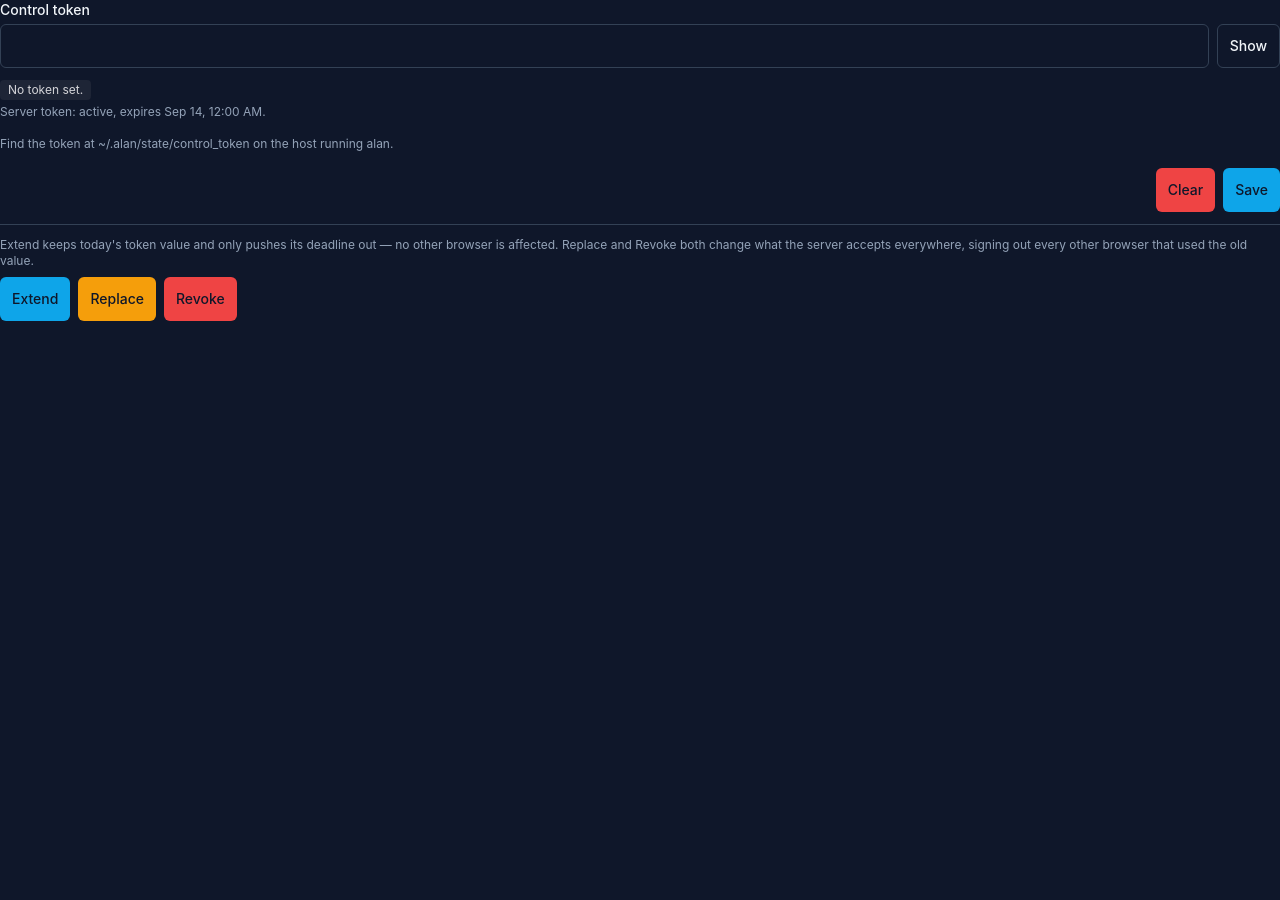
Test case: ControlTokenSection › Replace opens a reset-variant confirm dialog stating the out-of-band fetch and the multi-device sign-out, and cancel makes no request
Click the button with test id "control-token-replace" at (117, 299), box left=78, top=277, right=156, bottom=321
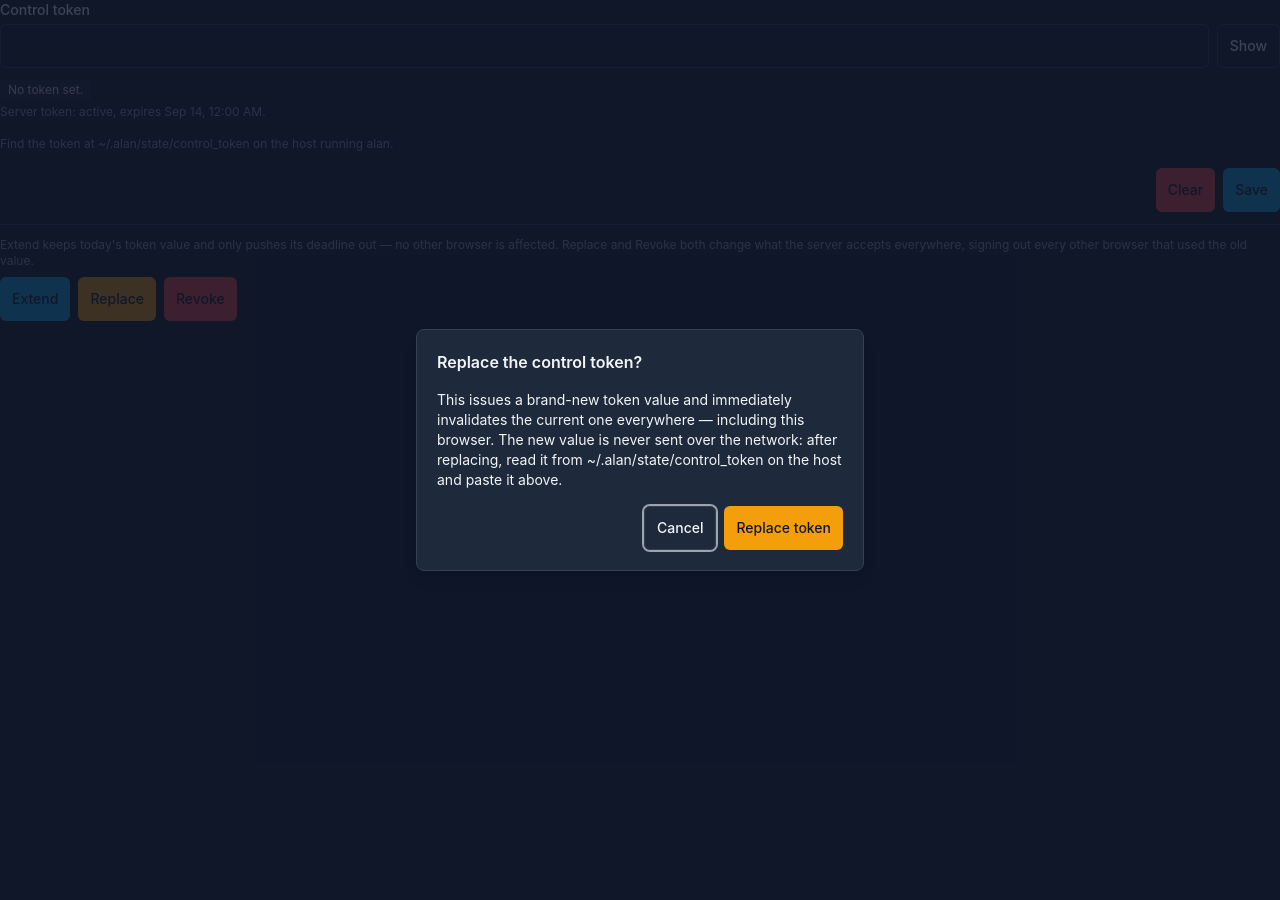
expect the dialog with test id "control-token-replace-confirm" shows "never sent over the network": met, box left=437, top=391, right=842, bottom=488
expect the dialog with test id "control-token-replace-confirm" shows "including this browser": met, box left=437, top=391, right=842, bottom=488
Click the button "Cancel" at (680, 528), box left=644, top=506, right=716, bottom=550
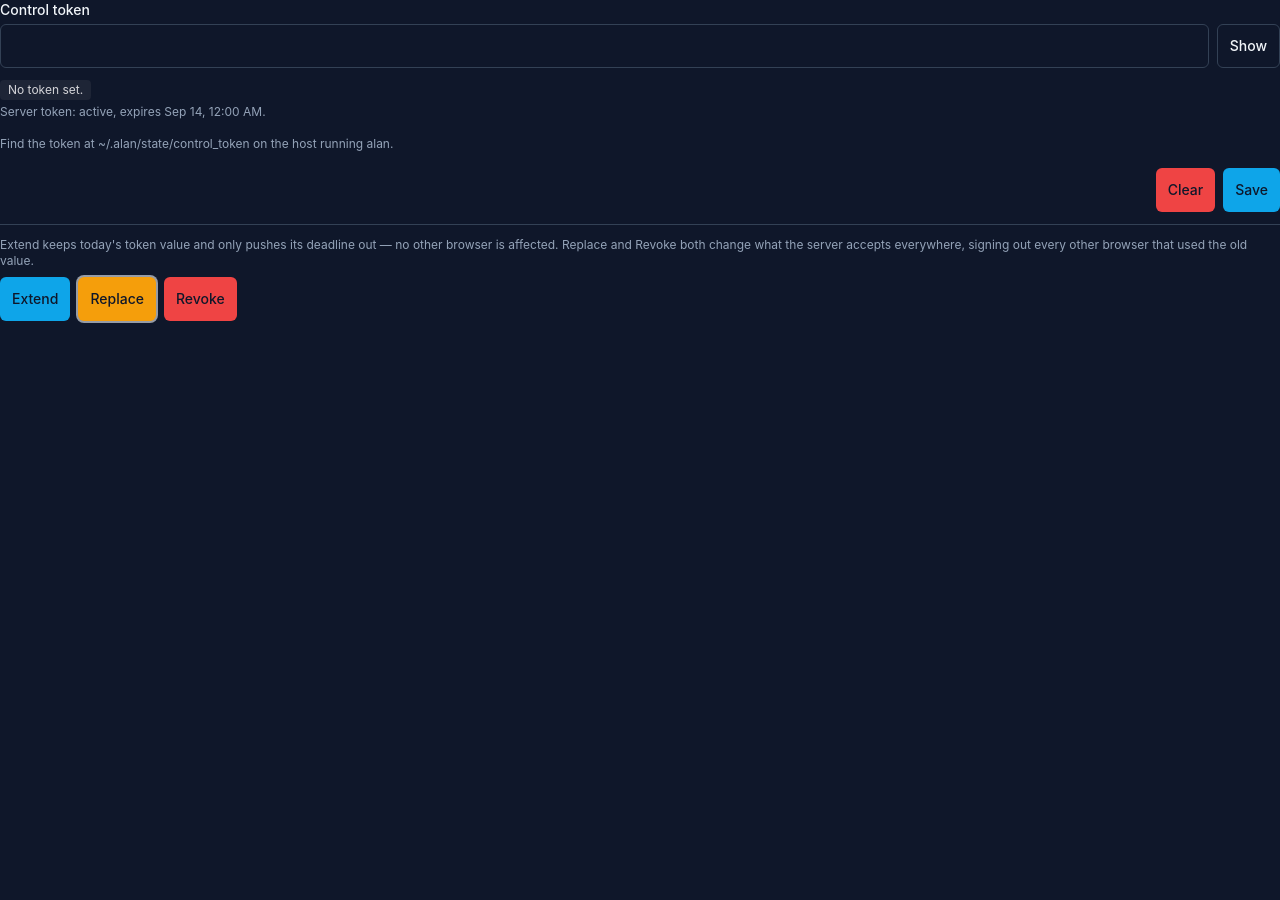
expect the dialog with test id "control-token-replace-confirm" is gone: met
